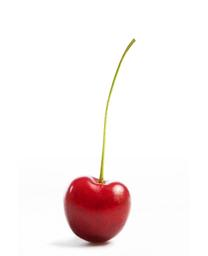cherry: (63, 176, 131, 245)
